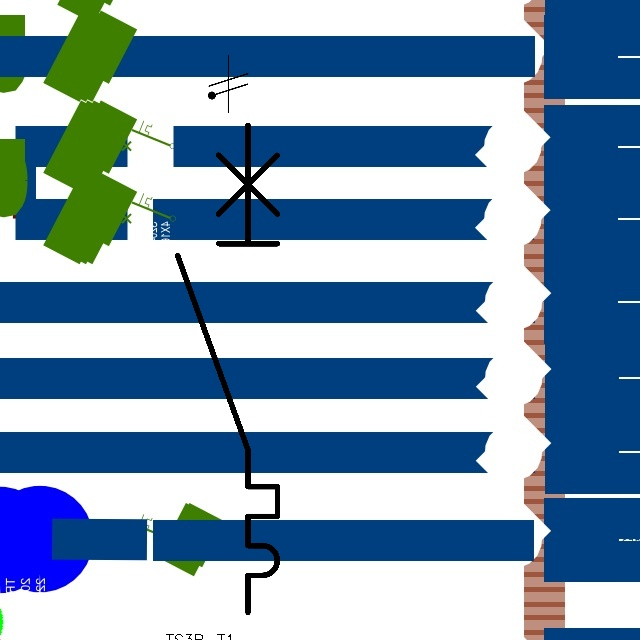interruptor_termomagnetico: (165, 112, 290, 624)
